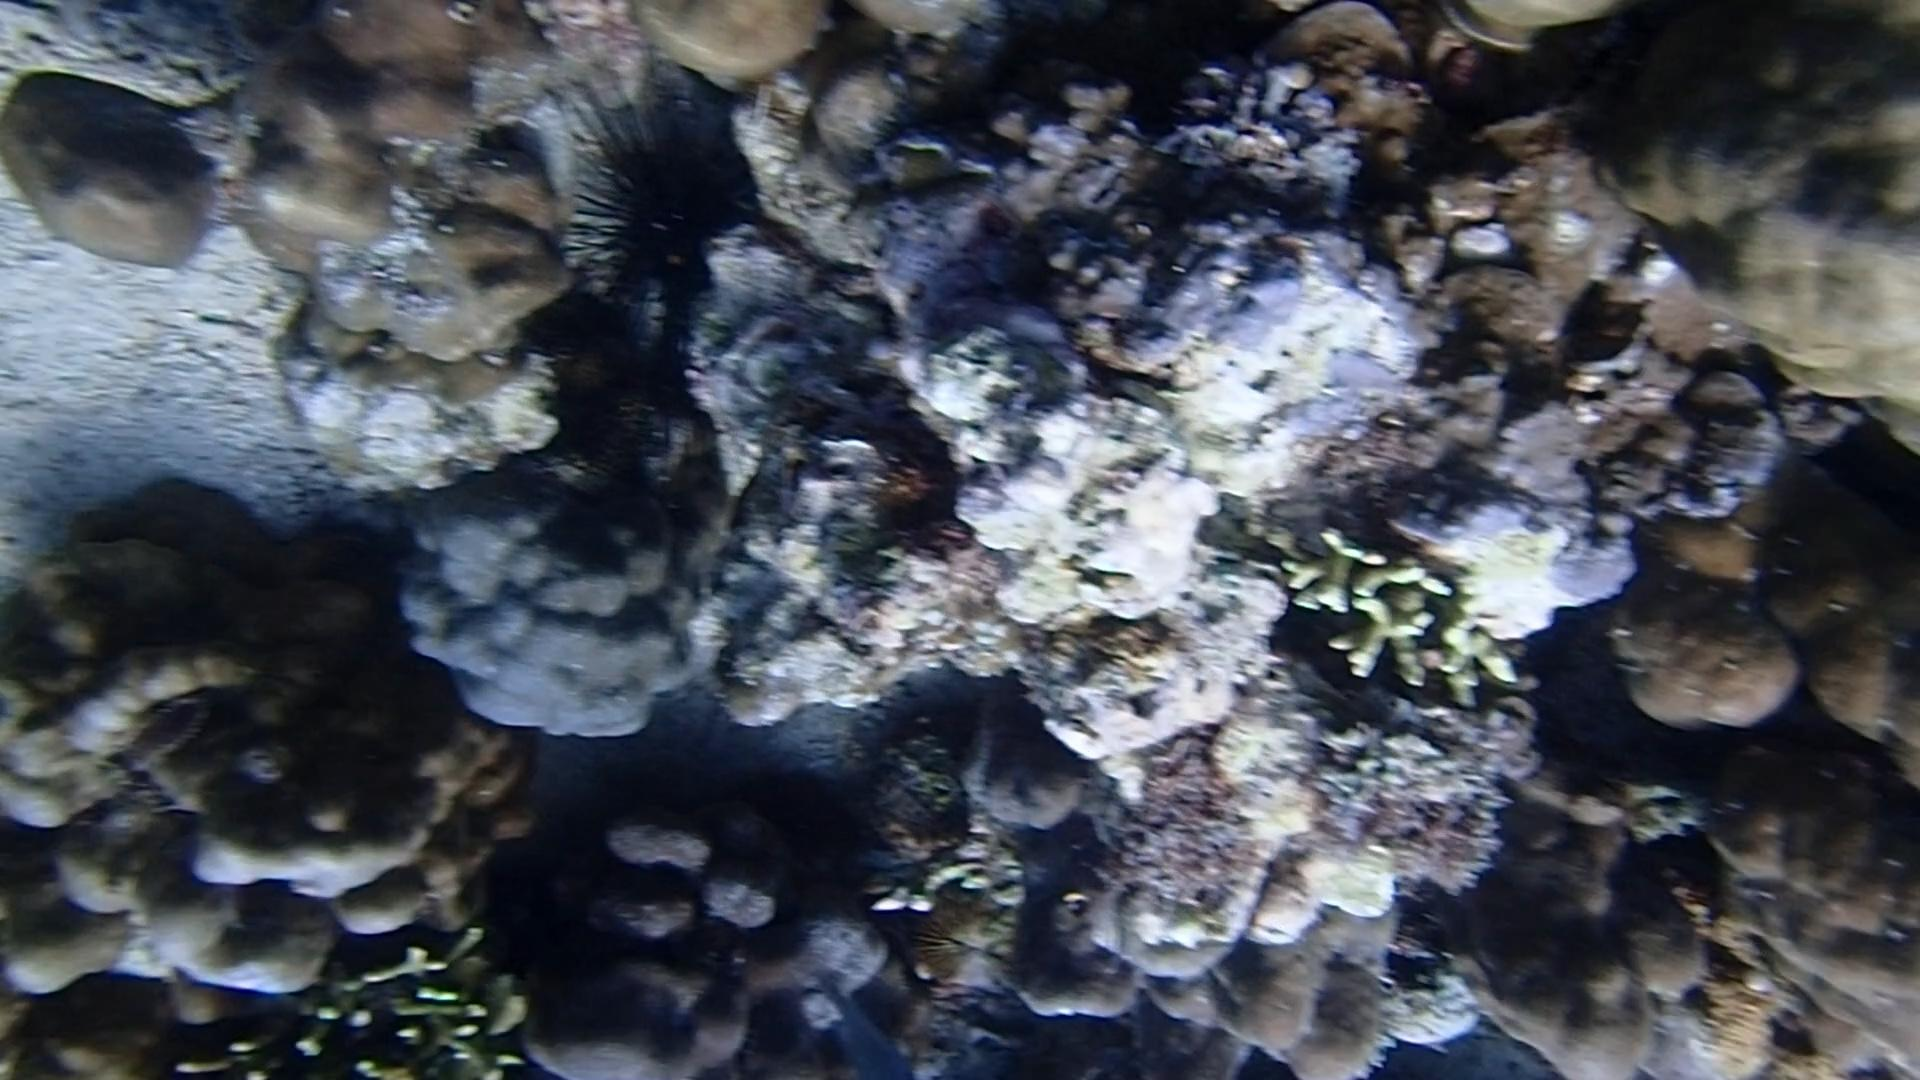Blue Fish Two: (815, 971, 909, 1080)
